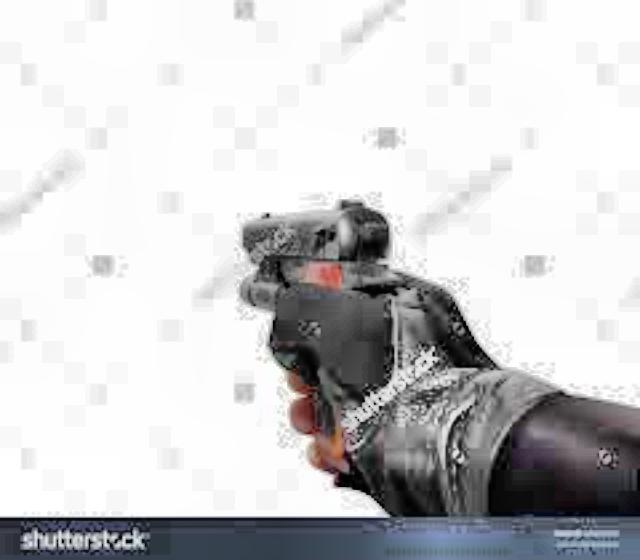pistol: (219, 187, 395, 483)
